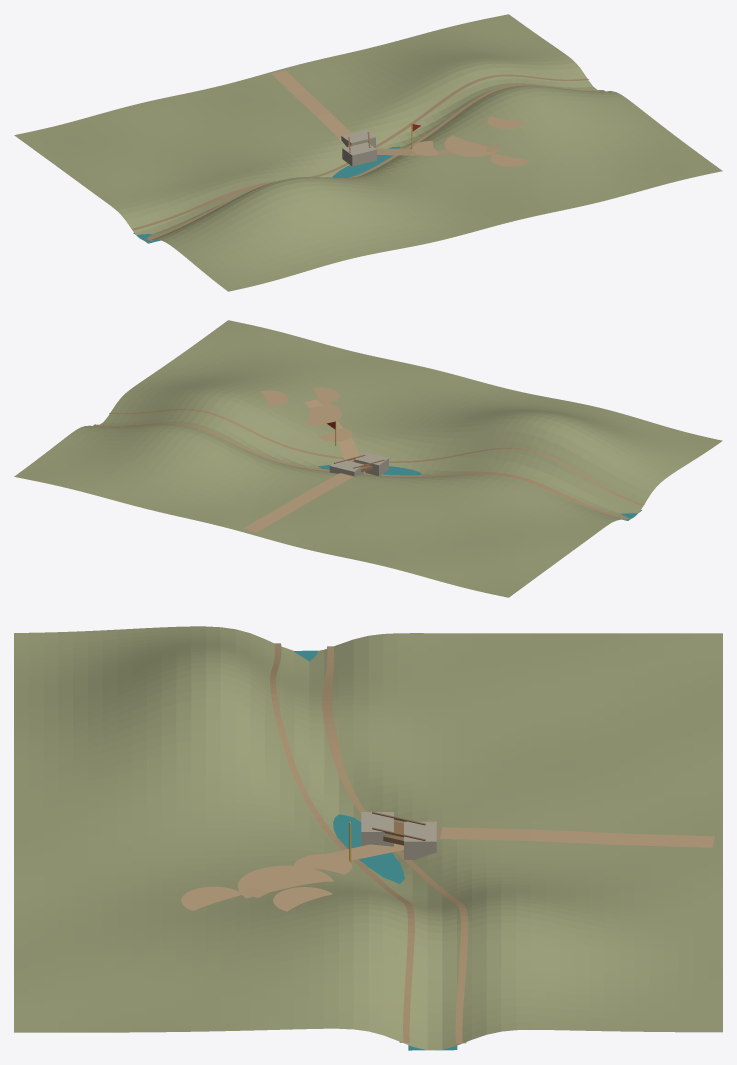
File: aurelian_basin.glb
The picture shows the model from 3 angles, top to bottom: view 1: azimuth 30°, elevation 25°; view 2: azimuth 150°, elevation 25°; view 3: azimuth 270°, elevation 25°; orthographic projection. The views are drawn at different scales.
Parts seen in each view (by area): view 1: AuthoredTerrain, RoadBed, RiverBankR, RiverBankL, Commons, BridgeAbutment.001, RiverSurface; view 2: AuthoredTerrain, RoadBed, RiverBankR, RiverBankL, Commons, BridgeAbutment.001; view 3: AuthoredTerrain, RoadBed, RiverBankR, RiverBankL, RiverSurface, Commons, BridgeAbutment, BridgeAbutment.001, ChurchPad, BarracksPad, BlacksmithPad.
Part boxes in pixels (x1=…): AuthoredTerrain: x1=14, y1=14, x2=722, y2=291; RoadBed: x1=271, y1=70, x2=499, y2=155; RiverBankR: x1=132, y1=74, x2=588, y2=230; RiverBankL: x1=148, y1=84, x2=604, y2=240; Commons: x1=444, y1=135, x2=500, y2=156; BridgeAbutment.001: x1=342, y1=142, x2=376, y2=166; RiverSurface: x1=133, y1=146, x2=400, y2=243; AuthoredTerrain: x1=14, y1=320, x2=722, y2=597; RoadBed: x1=243, y1=399, x2=365, y2=532; RiverBankR: x1=93, y1=422, x2=627, y2=520; RiverBankL: x1=109, y1=408, x2=644, y2=505; Commons: x1=304, y1=401, x2=341, y2=426; BridgeAbutment.001: x1=354, y1=452, x2=388, y2=475; AuthoredTerrain: x1=14, y1=626, x2=722, y2=1050; RoadBed: x1=239, y1=827, x2=715, y2=897; RiverBankR: x1=322, y1=646, x2=468, y2=1043; RiverBankL: x1=270, y1=643, x2=414, y2=1042; RiverSurface: x1=294, y1=650, x2=457, y2=1050; Commons: x1=237, y1=865, x2=333, y2=898; BridgeAbutment: x1=404, y1=821, x2=436, y2=859; BridgeAbutment.001: x1=361, y1=812, x2=393, y2=846; ChurchPad: x1=181, y1=886, x2=241, y2=910; BarracksPad: x1=273, y1=887, x2=332, y2=911; BlacksmithPad: x1=294, y1=854, x2=351, y2=874.
Size of the model in its own units: 104 by 9.86 by 78.
